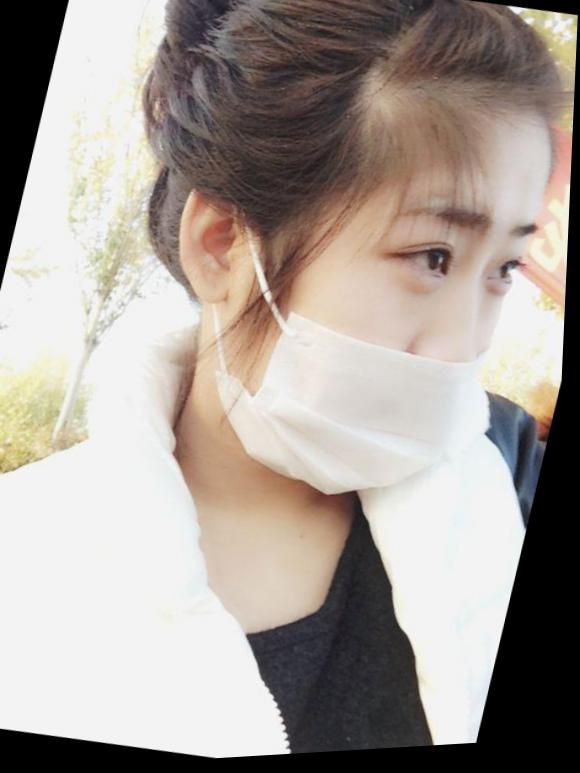WRONG: (185, 112, 562, 537)
